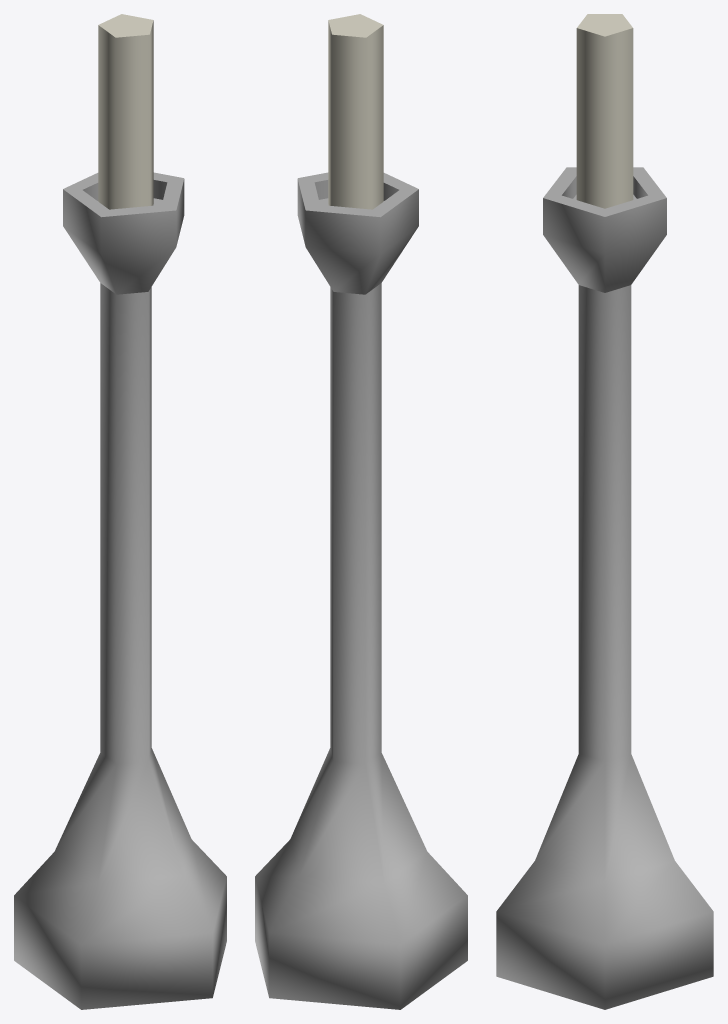
File: Dest_Hall_Table_Candle.FBX
The picture shows the model from 3 angles, left to right: view 1: azimuth 30°, elevation 25°; view 2: azimuth 150°, elevation 25°; view 3: azimuth 270°, elevation 25°; orthographic projection.
Visible parts, largest first — view 1: Cylinder005; view 2: Cylinder005; view 3: Cylinder005.
Part boxes in pixels (<box>): Cylinder005: <box>14,14,226,1009</box>; Cylinder005: <box>255,14,467,1009</box>; Cylinder005: <box>496,14,713,1009</box>.
Bounding box in the file's own units: 3.93 × 19.68 × 4.13.
